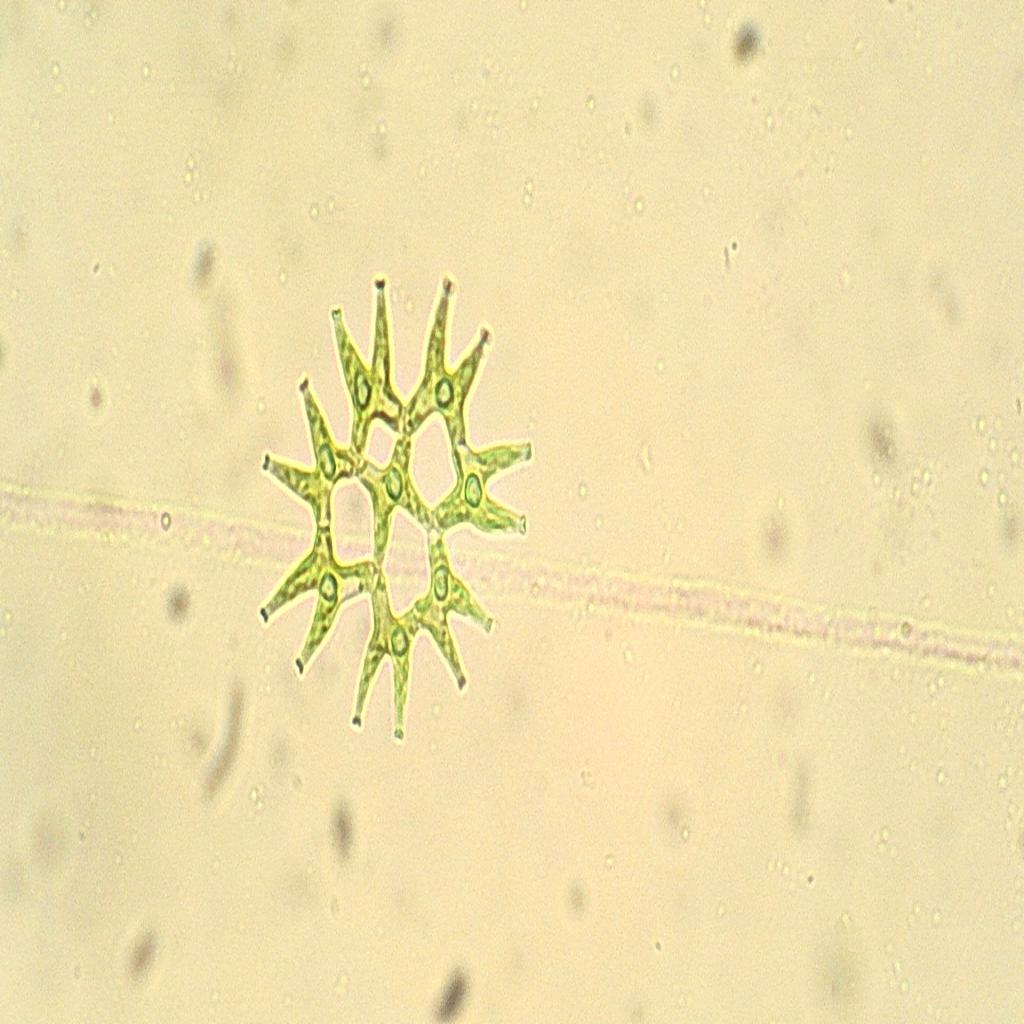Pediastrum_1T: (251, 252, 548, 750)
